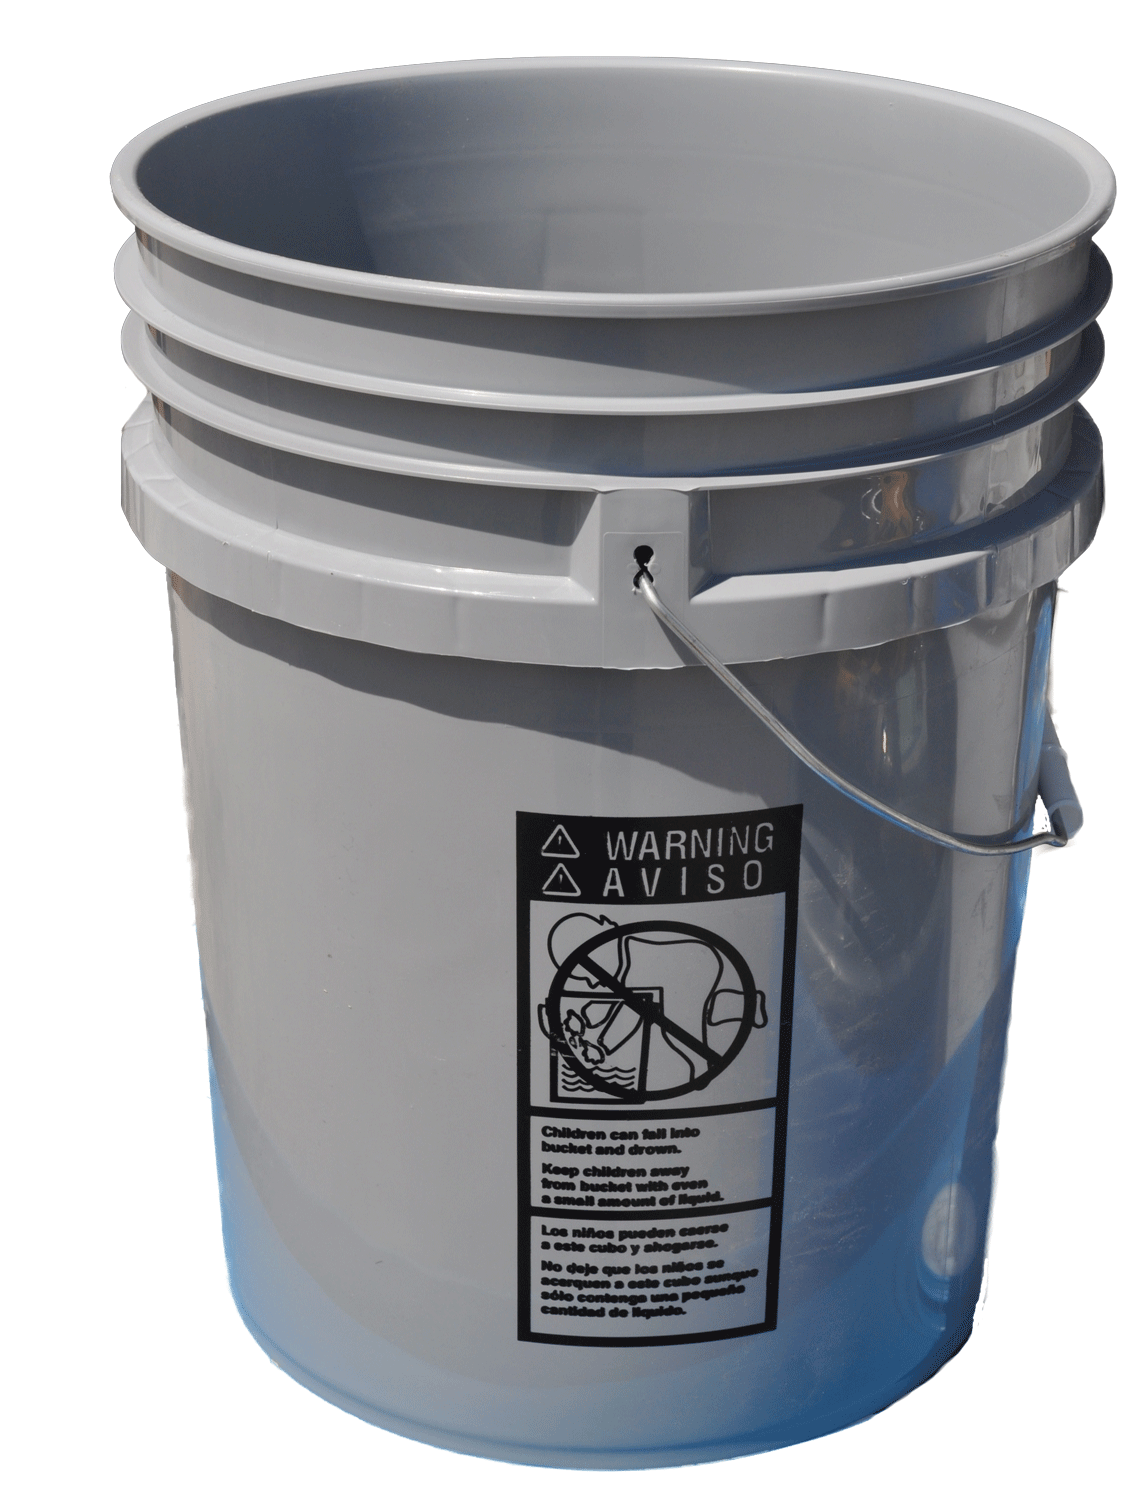Rec_Plastic: (111, 1, 1121, 1478)
